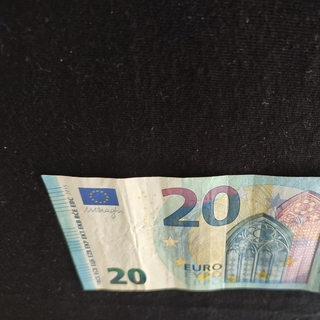20EUROFront: (39, 173, 320, 296)
